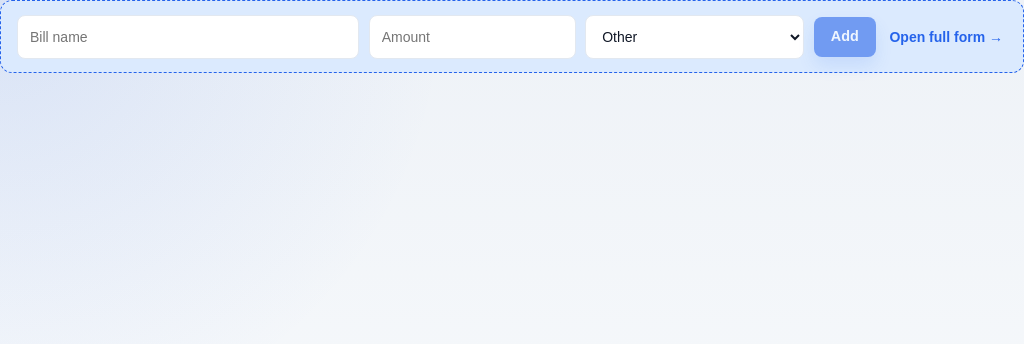
Test case: QuickAddBar › disables Add until name and amount are filled in
The image size is (1024, 344).
Expected: the button "Add" is disabled, [814,17,876,57]
In the field labelled "Bill name": (188, 37) [17,15,359,59], type "Gym"
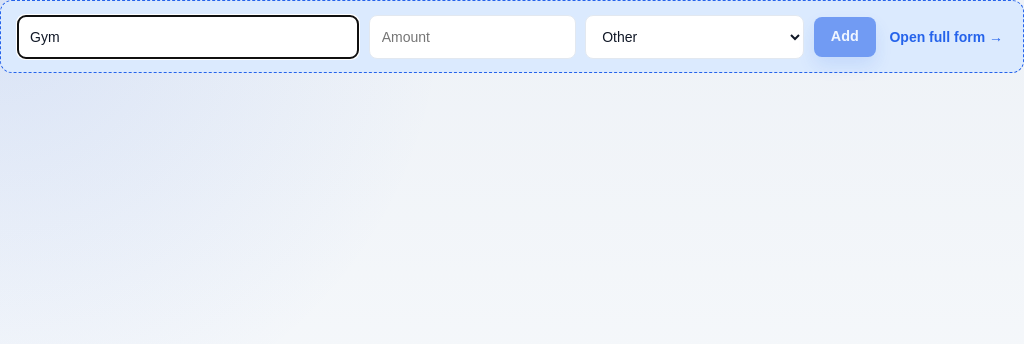
Expected: the button "Add" is disabled, [814,17,876,57]
In the number field labelled "Amount": (472, 37) [369,15,576,59], type "40"
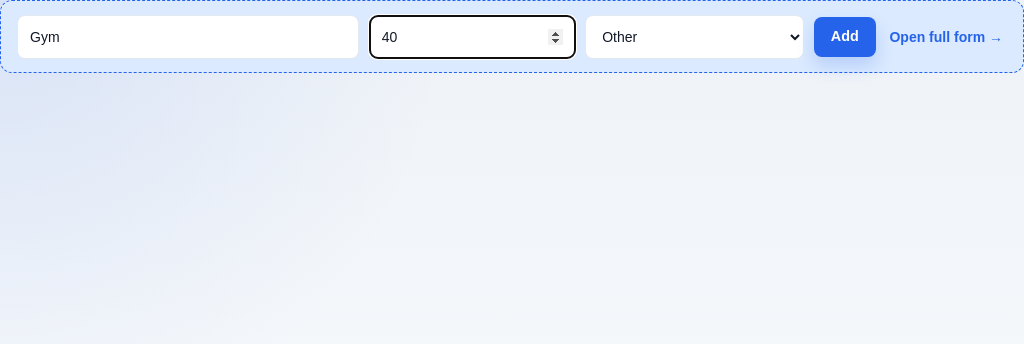
Expected: the button "Add" is enabled, [814,17,876,57]
